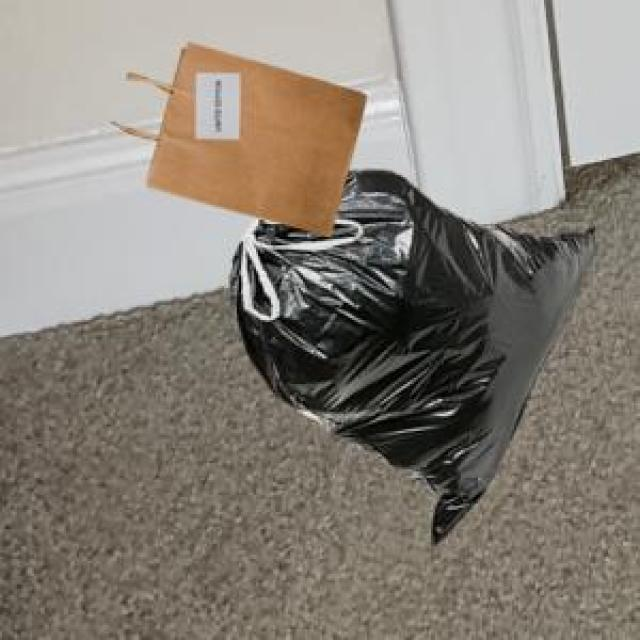miscellaneous trash: (226, 166, 593, 540)
paper: (113, 38, 363, 233)
